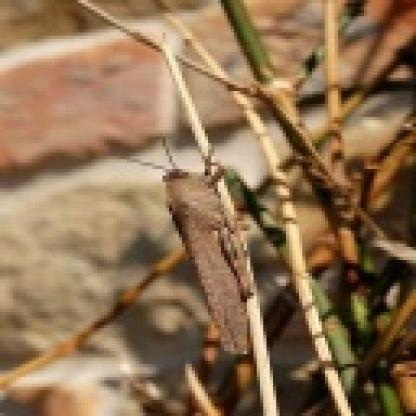grasshopper: (152, 136, 266, 362)
